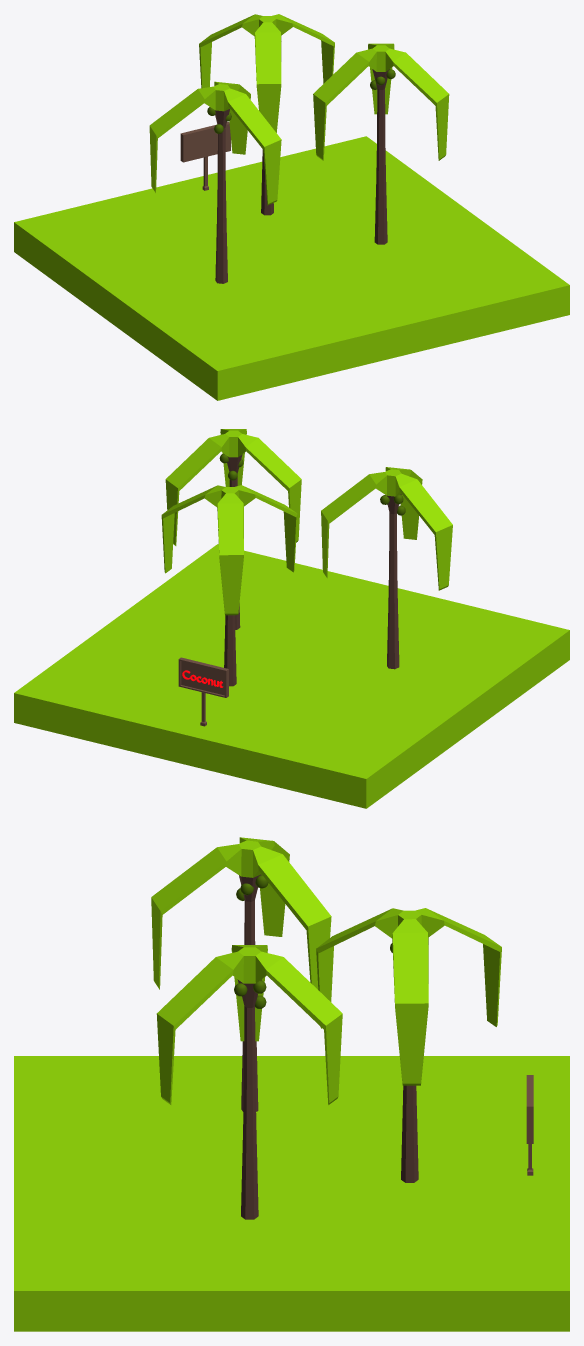
Rendered from Coconut_D.fbx.
3 renders of one model, top to bottom at view 1: azimuth 30°, elevation 25°; view 2: azimuth 150°, elevation 25°; view 3: azimuth 270°, elevation 25°, orthographic. The views are drawn at different scales.
Visible parts, largest first — view 1: Cube.029, Cylinder.025, Cylinder.024, Cylinder.026, Cube.068; view 2: Cube.029, Cylinder.025, Cylinder.026, Cylinder.024, Cube.068; view 3: Cube.029, Cylinder.024, Cylinder.026, Cylinder.025, Cube.068.
Boxes of the visible parts, x1,y1,x2,y2 form: Cube.029: [14, 136, 569, 400]; Cylinder.025: [149, 81, 281, 283]; Cylinder.024: [313, 43, 449, 244]; Cylinder.026: [199, 14, 334, 215]; Cube.068: [180, 122, 230, 190]; Cube.029: [14, 544, 569, 808]; Cylinder.025: [321, 467, 452, 669]; Cylinder.026: [161, 485, 297, 686]; Cylinder.024: [165, 429, 301, 629]; Cube.068: [178, 657, 228, 726]; Cube.029: [14, 1056, 569, 1331]; Cylinder.024: [156, 945, 342, 1219]; Cylinder.026: [316, 908, 501, 1182]; Cylinder.025: [151, 837, 331, 1111]; Cube.068: [526, 1075, 533, 1175].
Bounding box in the file's own units: 2690 × 1664 × 2690.
